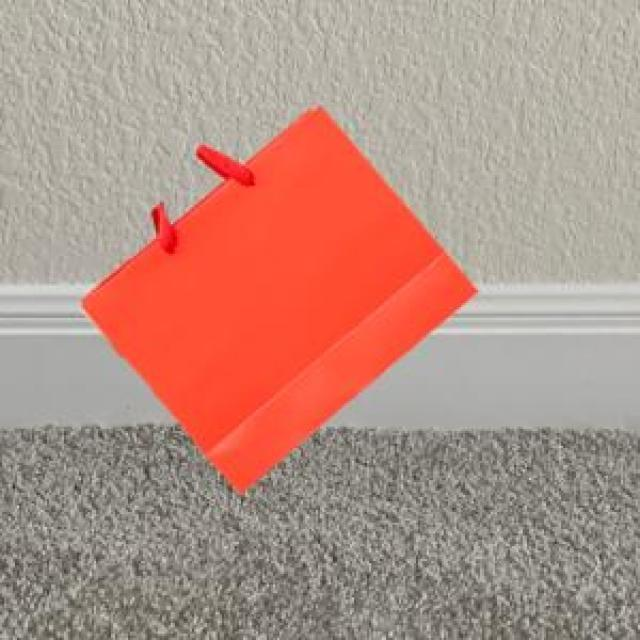paper: (77, 102, 474, 489)
